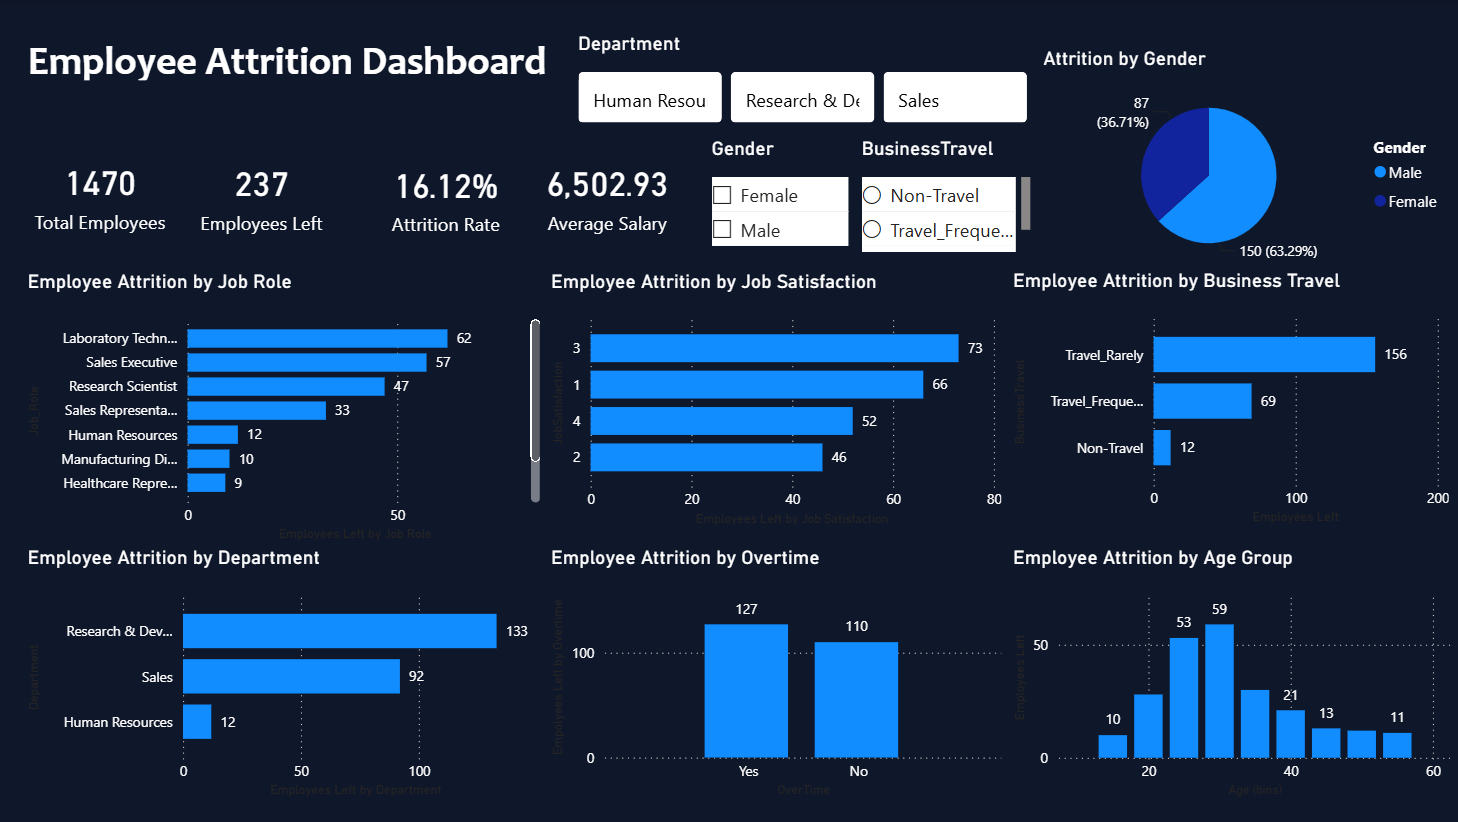

What the dashboard file says about the page in this screenshot:
{"tool":"powerbi","page":{"name":"HR Overview","canvas":[1280,720],"ordinal":0},"visuals":[{"type":"card","fields":{"Values":["Dax Measures (2).Total Employees"]},"box":[0,112.2,182.6,112.2],"z":0},{"type":"card","fields":{"Values":["Dax Measures (2).Employees Left"]},"box":[139.5,112.2,184.1,113.6],"z":1000},{"type":"card","fields":{"Values":["Dax Measures (2).Average Salary"]},"box":[463.1,112.2,140.9,113.6],"z":2000},{"type":"card","fields":{"Values":["Dax Measures (2).Attrition Rate"]},"box":[323.6,113.6,139.5,113.6],"z":3000},{"type":"textbox","title":"Employee Attrition Dashboard","box":[23.1,30.8,496.9,38.5],"z":4000},{"type":"clusteredBarChart","title":"Employee Attrition by Department","fields":{"Category":["hr_analytics employees.Department"],"Y":["hr_analytics employees.Employees Left by Department"]},"box":[23.5,475.9,456.3,223.6],"z":5000},{"type":"pieChart","title":"Attrition by Gender","fields":{"Category":["hr_analytics employees.Gender"],"Y":["hr_analytics employees.Employees Left by Gender"]},"box":[908.9,40.3,364,194.5],"z":6000},{"type":"barChart","title":"Employee Attrition by Job Satisfaction","fields":{"Category":["hr_analytics employees.JobSatisfaction"],"Y":["hr_analytics employees.Employees Left by Job Satisfaction"]},"box":[479.5,234.9,402.5,227.2],"z":7000},{"type":"clusteredBarChart","title":"Employee Attrition by Job Role","fields":{"Category":["hr_analytics employees.Job_Role"],"Y":["hr_analytics employees.Employees Left by Job Role"]},"box":[23.5,235.4,456.3,240.6],"z":8000},{"type":"clusteredColumnChart","title":"Employee Attrition by Overtime","fields":{"Category":["hr_analytics employees.OverTime"],"Y":["hr_analytics employees.Empolyees Left by Overtime"]},"box":[479.5,475.7,402.5,223.4],"z":9000},{"type":"clusteredColumnChart","title":"Employee Attrition by Age Group","fields":{"Category":["hr_analytics employees.Age (bins)"],"Y":["Dax Measures (2).Employees Left"]},"box":[882.6,475.9,391,223.6],"z":10000},{"type":"clusteredBarChart","title":"Employee Attrition by Business Travel","fields":{"Category":["hr_analytics employees.BusinessTravel"],"Y":["Dax Measures (2).Employees Left"]},"box":[882.6,234,389.6,227.5],"z":11000},{"type":"advancedSlicerVisual","fields":{"Values":["hr_analytics employees.Department"]},"box":[503.3,27.3,402.7,84.8],"z":12000},{"type":"listSlicer","fields":{"Values":["hr_analytics employees.Gender"]},"box":[619.8,119.4,129,115.5],"z":13000},{"type":"listSlicer","fields":{"Values":["hr_analytics employees.BusinessTravel"]},"box":[750.7,119.4,157.9,105.9],"z":14000}]}

Visuals, with their boxes in screenshot pixels (x1, y1, x2, y2), scaled from the page's 1280x720 canvas onto the 1458x822 screenshot:
card - Dax Measures (2).Total Employees: 0:128:208:256
card - Dax Measures (2).Employees Left: 159:128:369:258
card - Dax Measures (2).Average Salary: 527:128:688:258
card - Dax Measures (2).Attrition Rate: 369:130:527:259
"Employee Attrition Dashboard" textbox: 26:35:592:79
"Employee Attrition by Department" clusteredBarChart: 27:543:547:799
"Attrition by Gender" pieChart: 1035:46:1450:268
"Employee Attrition by Job Satisfaction" barChart: 546:268:1005:528
"Employee Attrition by Job Role" clusteredBarChart: 27:269:547:543
"Employee Attrition by Overtime" clusteredColumnChart: 546:543:1005:798
"Employee Attrition by Age Group" clusteredColumnChart: 1005:543:1451:799
"Employee Attrition by Business Travel" clusteredBarChart: 1005:267:1449:527
advancedSlicerVisual - hr_analytics employees.Department: 573:31:1032:128
listSlicer - hr_analytics employees.Gender: 706:136:853:268
listSlicer - hr_analytics employees.BusinessTravel: 855:136:1035:257
